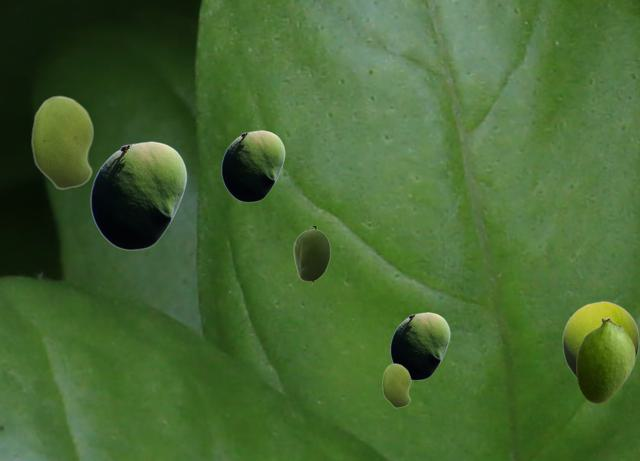green_mango: (90, 141, 186, 249), (31, 95, 93, 189), (562, 301, 638, 377), (576, 317, 634, 402), (221, 130, 284, 201), (390, 312, 449, 379), (293, 226, 329, 283), (382, 363, 410, 407)
